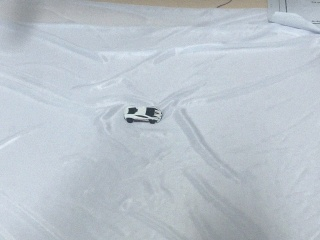toy_car: (124, 106, 162, 123)
